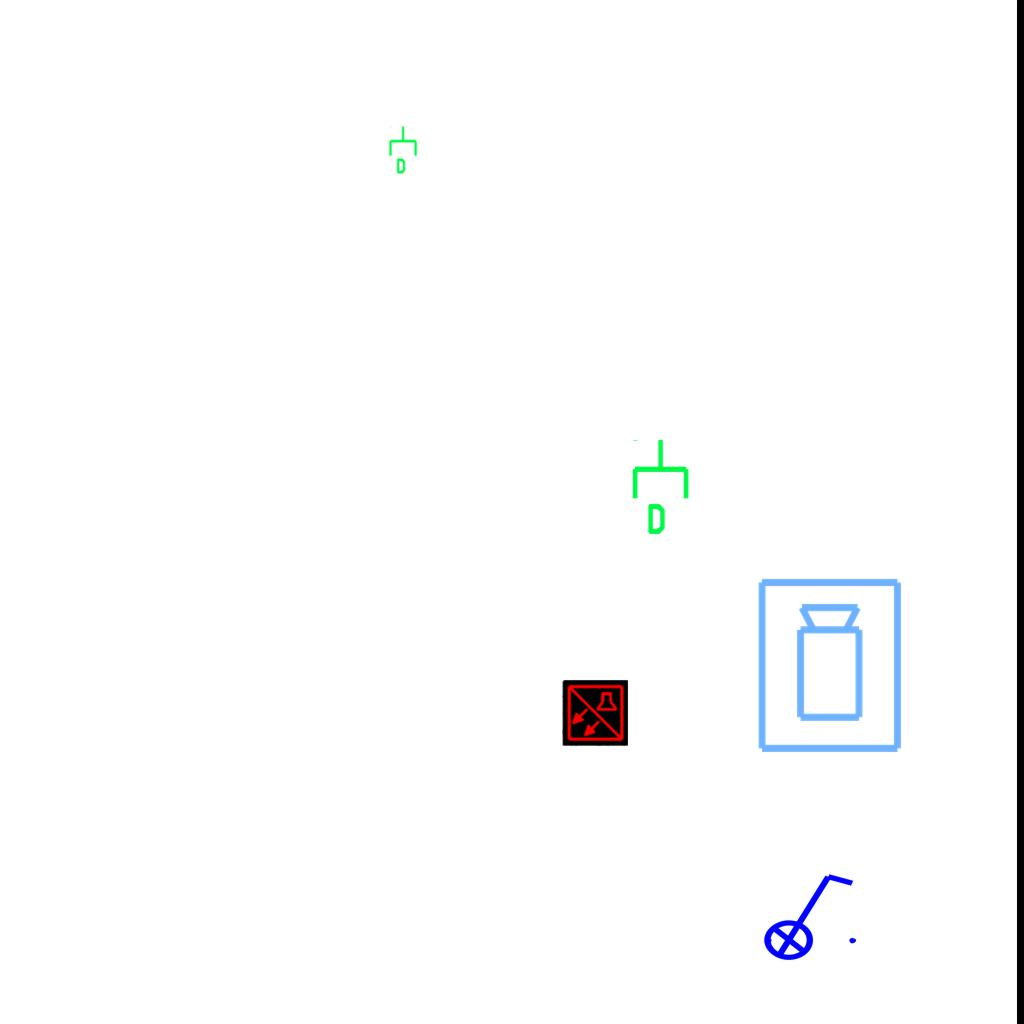Ausschalter_beleuchtet: (750, 866, 862, 962)
Datenanschluss_einfach: (628, 437, 697, 537), (387, 125, 421, 175)
KFO_Kamera_mit_Festobjektiv: (754, 575, 908, 757)
OKW_Multisensormelder_(Kombination_optischer_Rauch-Kahlenmonoxid_Waerme-Melder): (562, 680, 628, 746)
